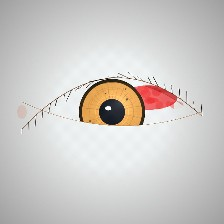hemorrhage_spot: (109, 66, 188, 129)
